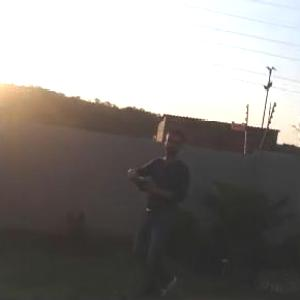follow: (121, 127, 193, 298)
